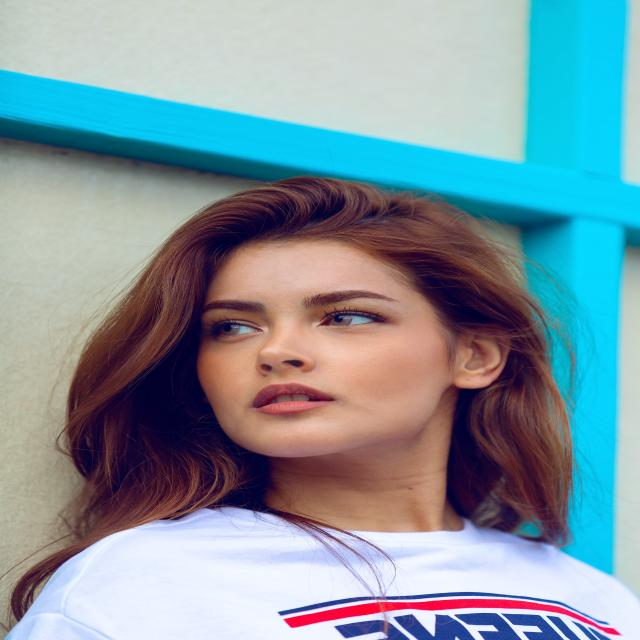adult: (0, 194, 630, 640)
